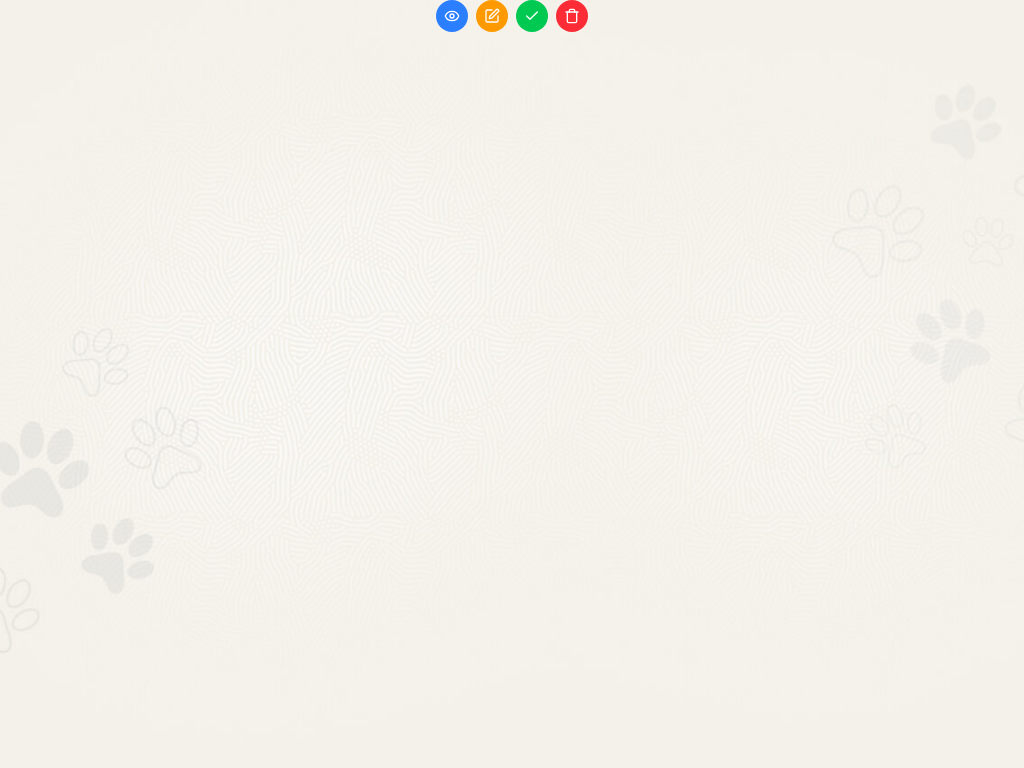
Test: ProductActionButtons › opens modal when recover is clicked
Step 1. Click the button with test id "recover-button" → click(532, 16), box [516,0,548,32]
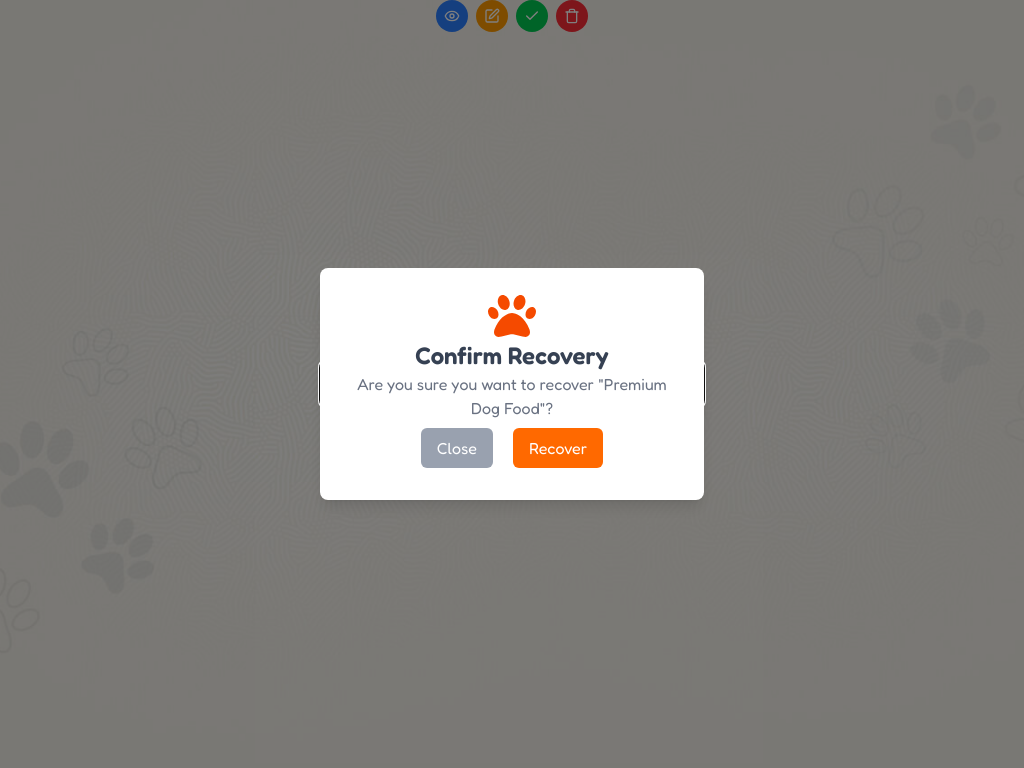
Result: the heading "Confirm Recovery" is shown at [415,340,609,372]
Result: the text "Are you sure you want to recover \"Premium Dog Food\"?" is shown at [344,372,680,420]
